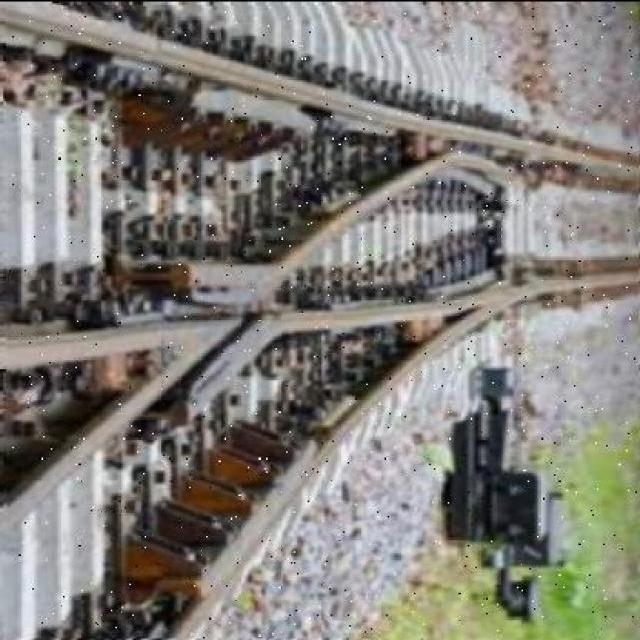rail: (9, 7, 638, 636)
